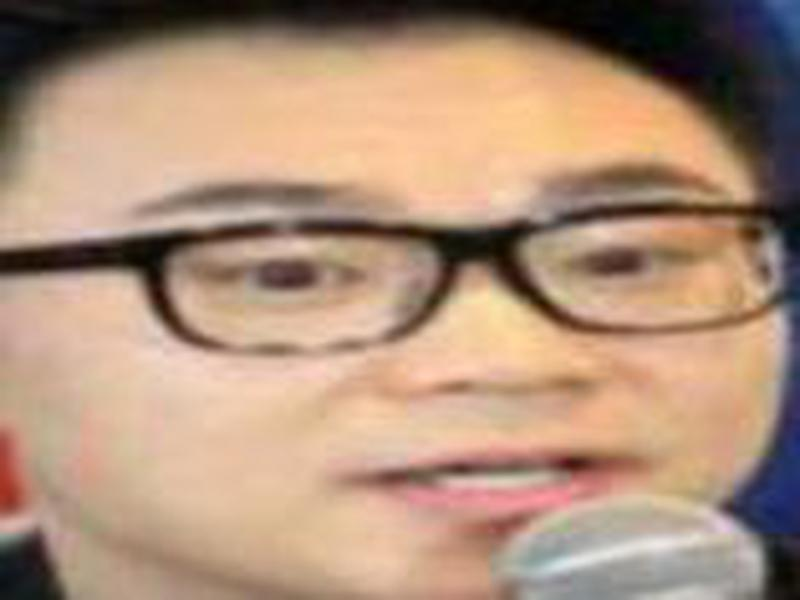without_mask: (38, 44, 787, 578)
